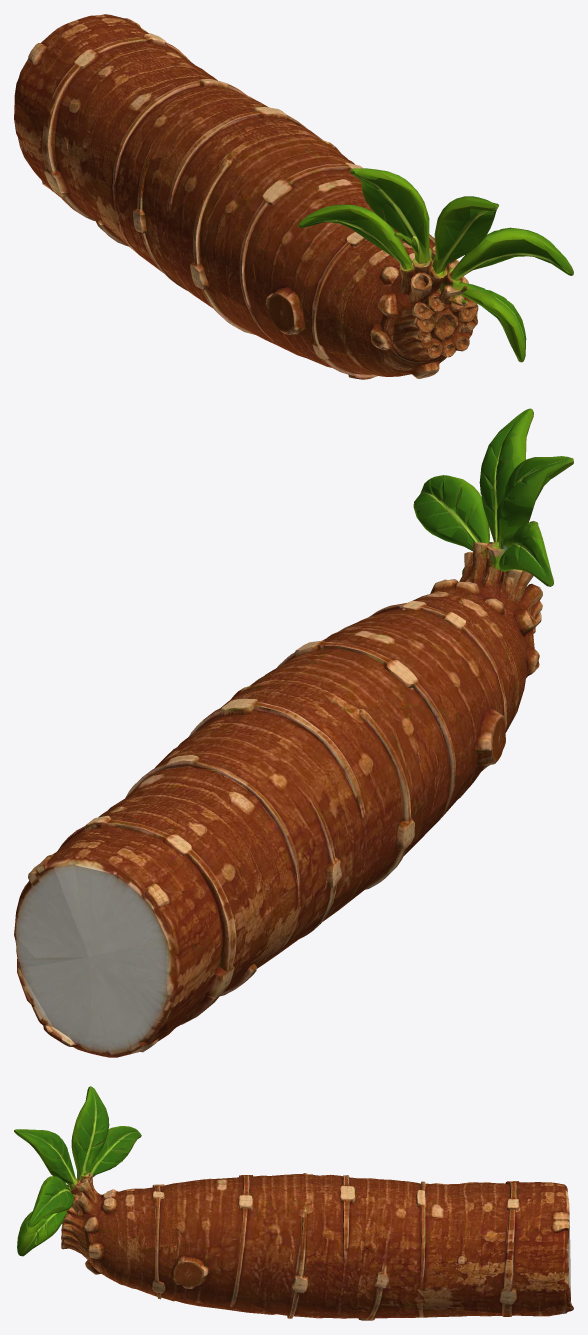
Rendered from mandioca.m.glb.
3 renders of one model, top to bottom at view 1: azimuth 30°, elevation 25°; view 2: azimuth 150°, elevation 25°; view 3: azimuth 270°, elevation 25°, orthographic. The views are drawn at different scales.
Visible parts, largest first — view 1: output_unwrapped; view 2: output_unwrapped; view 3: output_unwrapped.
Boxes of the visible parts, box(x1,y1,x2,y2) form: output_unwrapped: box(14, 14, 573, 379); output_unwrapped: box(14, 408, 573, 1057); output_unwrapped: box(14, 1086, 573, 1320).
Bounding box in the file's own units: 0.5364 × 0.7618 × 1.9.
Materials: 1 (1 with a texture image).
